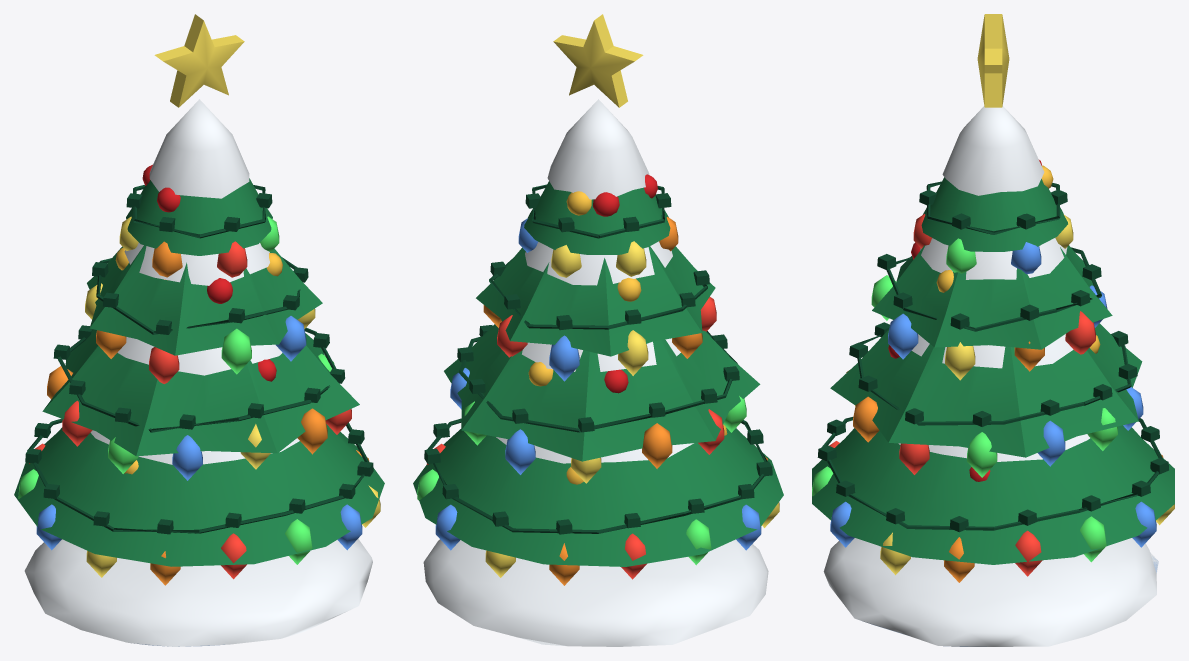
File: XmasTree.fbx
3 renders of one model, left to right at view 1: azimuth 30°, elevation 25°; view 2: azimuth 150°, elevation 25°; view 3: azimuth 270°, elevation 25°, orthographic.
Parts seen in each view (by area): view 1: XmasTree; view 2: XmasTree; view 3: XmasTree.
Part boxes in pixels (bbox=[...]): XmasTree: bbox=[14, 14, 384, 646]; XmasTree: bbox=[413, 14, 783, 646]; XmasTree: bbox=[812, 14, 1174, 646].
Bounding box in the file's own units: 2.11 × 3.49 × 2.05.
2 materials, 2 textured.
